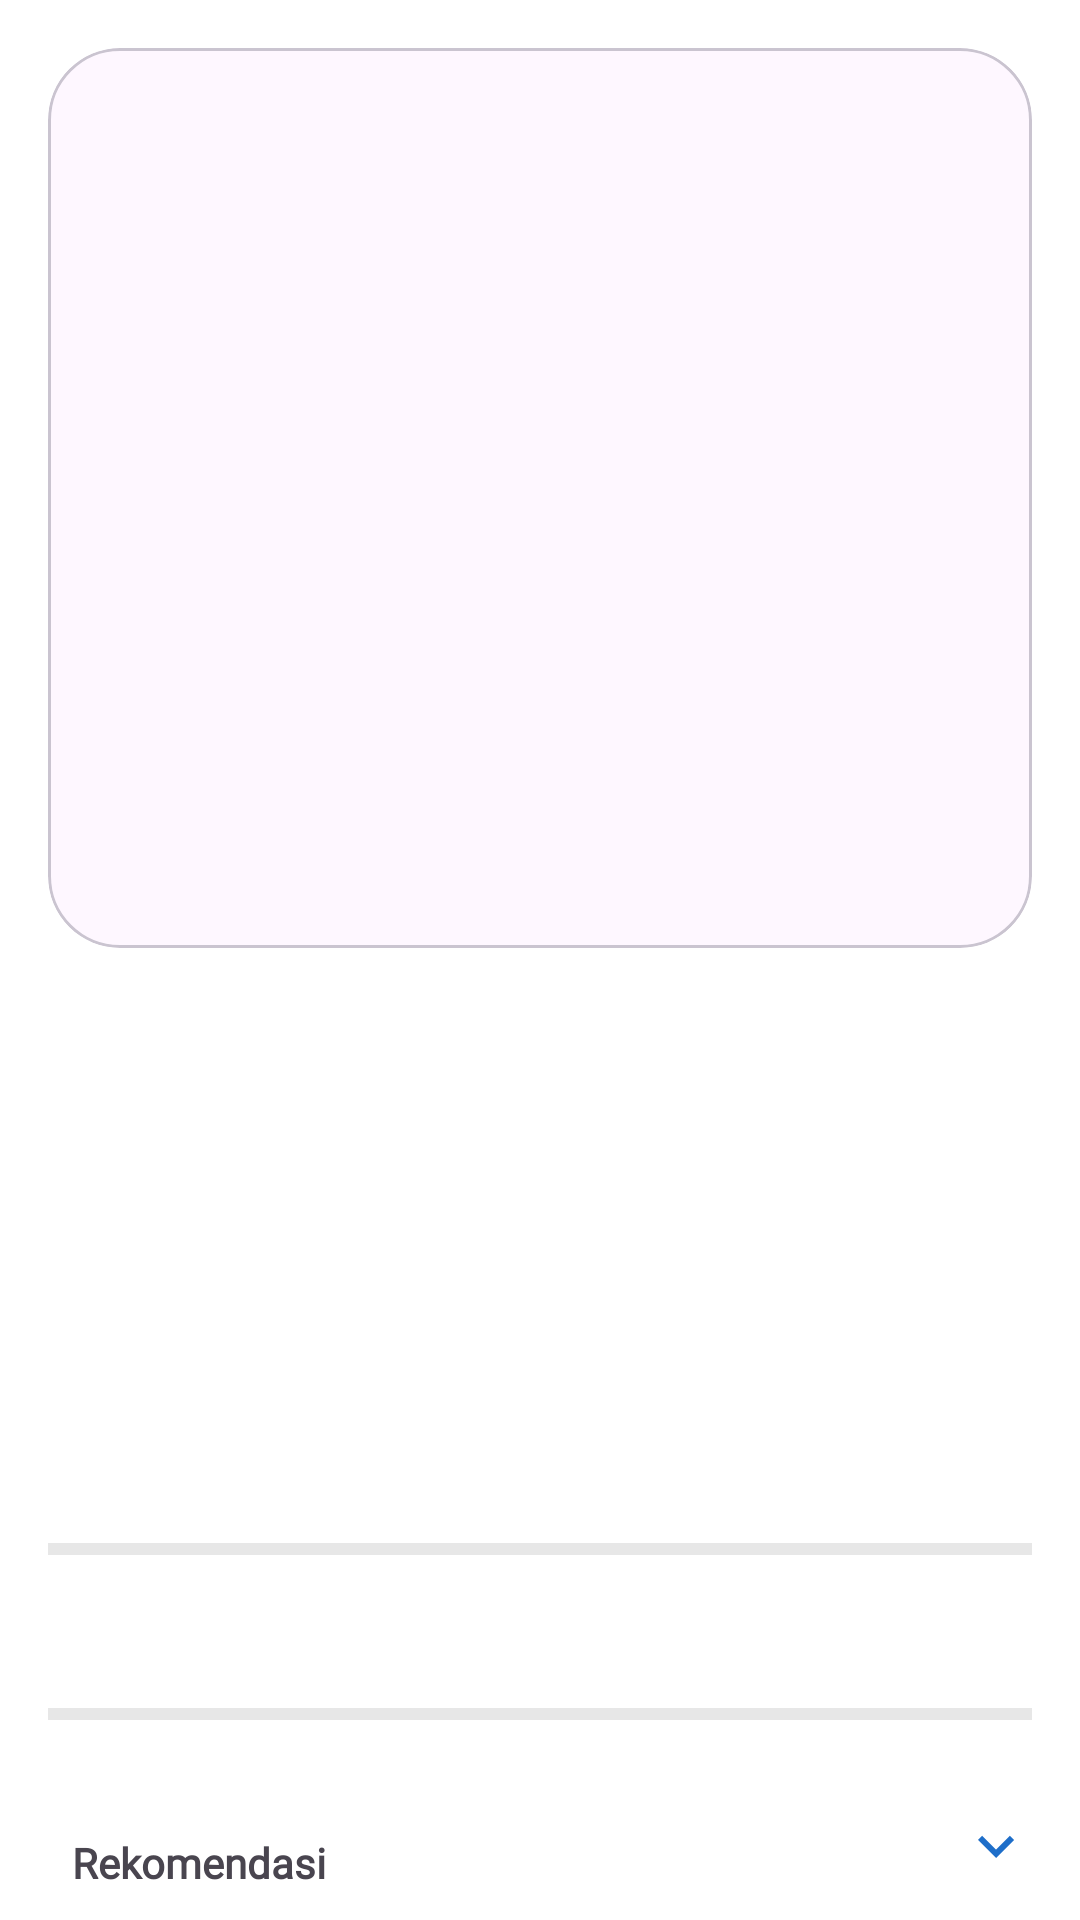

Point at icon controls on the screen. Image size 1080*1920, points as (x=x, y=y).
arrow: (x=996, y=1847)
